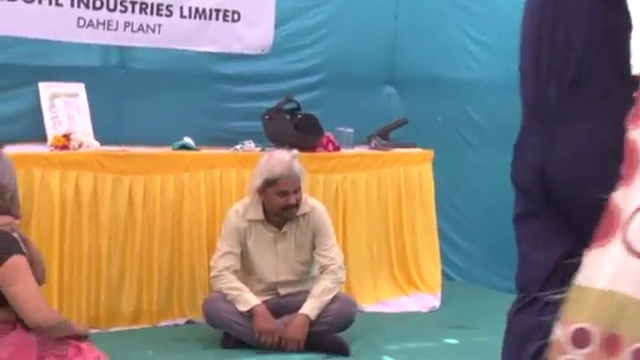helmet_off: (251, 159, 306, 226)
person: (496, 2, 640, 355), (197, 149, 359, 360), (1, 149, 111, 360)
